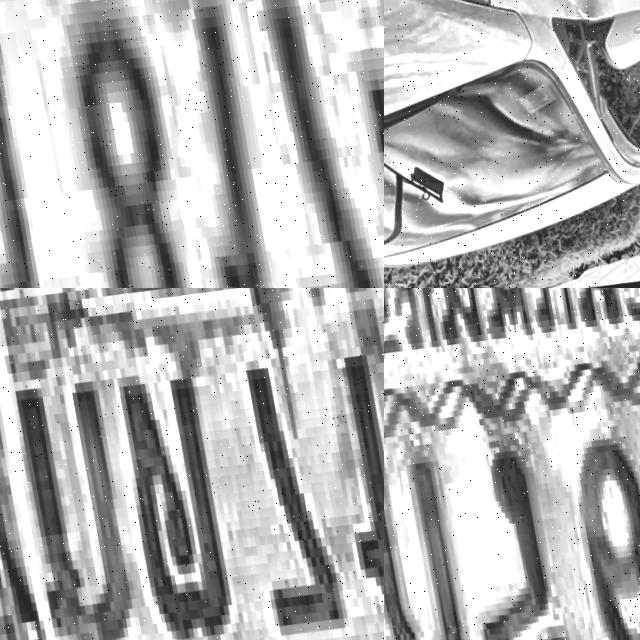license-plate: (0, 288, 384, 640), (0, 0, 384, 288), (384, 288, 640, 640)
